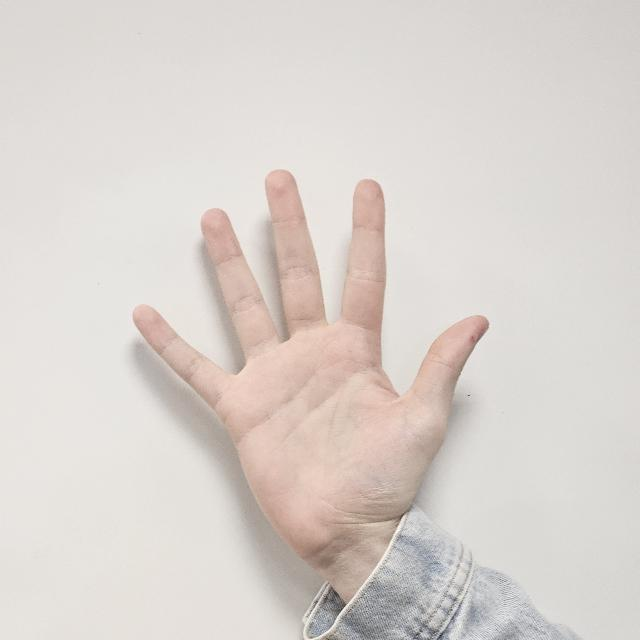X: (128, 168, 490, 550)
